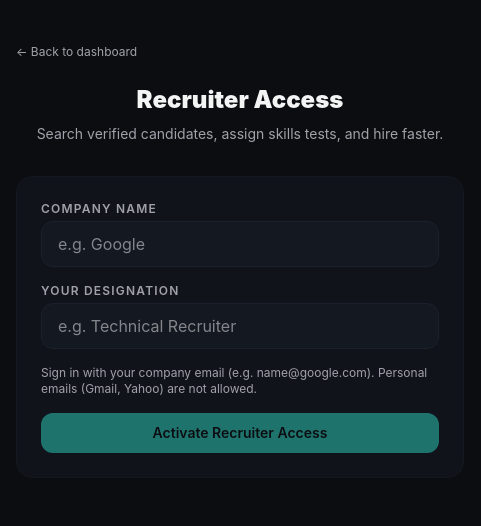
Scenario: RecruiterSignupPage › shows the error and re-enables the button when registration fails, instead of spinning forever
Type "Acme Corp" into the field with placeholder "e.g. Google" at [240, 244], box [41,221,439,267]
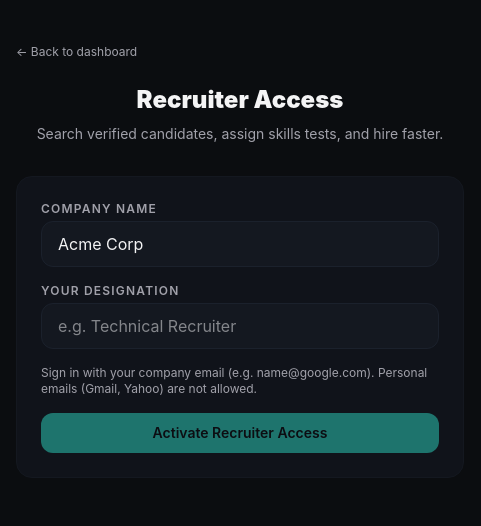
Type "Recruiter" into the field with placeholder "e.g. Technical Recruiter" at [240, 326], box [41,303,439,349]
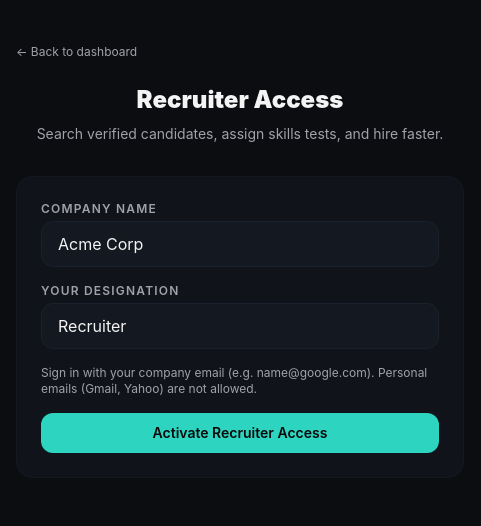
Click the button "Activate Recruiter Access" at [240, 433], box [41,413,439,453]
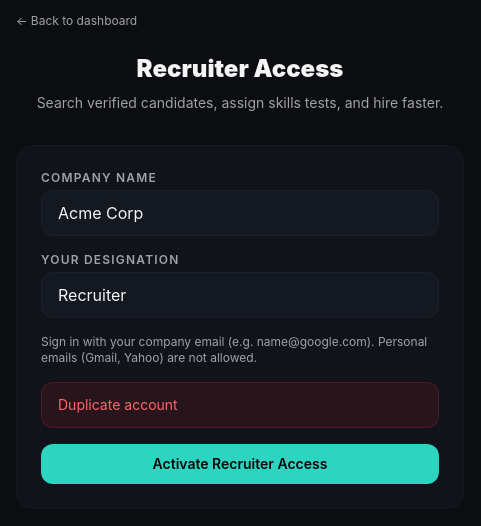
Check: the button "Activate Recruiter Access" is enabled, box [41,444,439,484]
Check: the text "Duplicate account" is shown, box [41,382,439,428]
